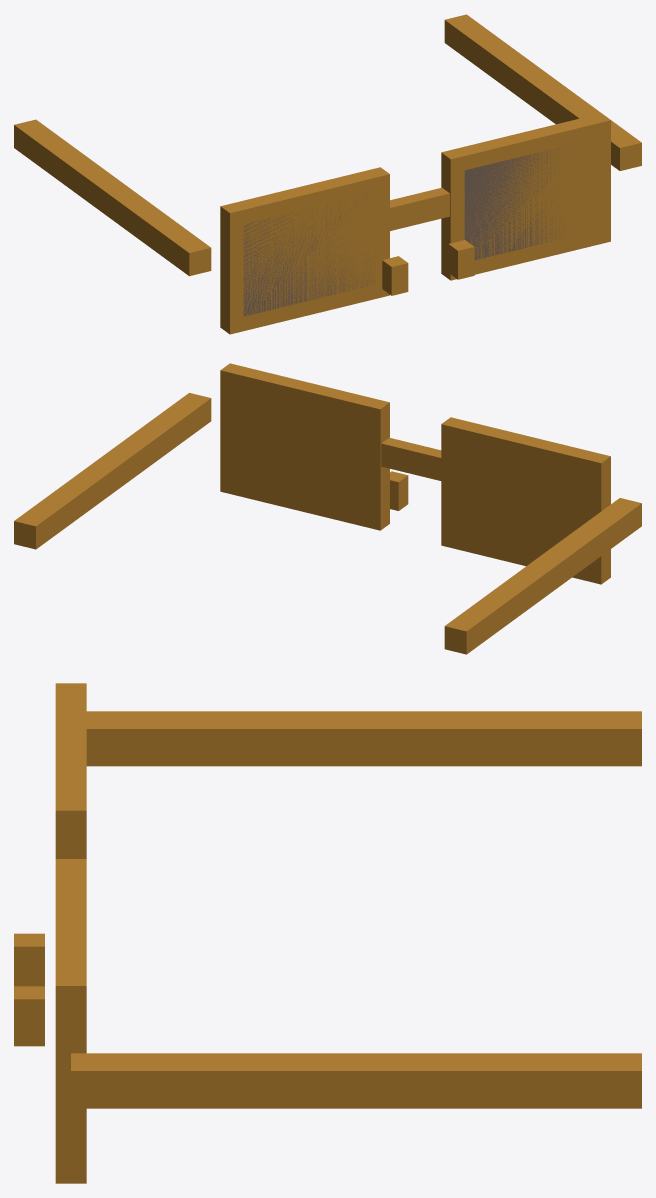
The model's file is clubmaster.glb.
3 renders of one model, top to bottom at view 1: azimuth 30°, elevation 25°; view 2: azimuth 150°, elevation 25°; view 3: azimuth 270°, elevation 25°, orthographic. The views are drawn at different scales.
Parts seen in each view (by area): view 1: clubmaster-amber; view 2: clubmaster-amber; view 3: clubmaster-amber.
Boxes of the visible parts, bbox=[...] form: clubmaster-amber: bbox=[14, 14, 641, 334]; clubmaster-amber: bbox=[14, 363, 641, 654]; clubmaster-amber: bbox=[14, 683, 641, 1183].
Bounding box in the file's own units: 1.64 × 0.42 × 1.21.
